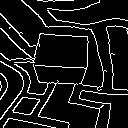cube: (30, 26, 91, 90)
